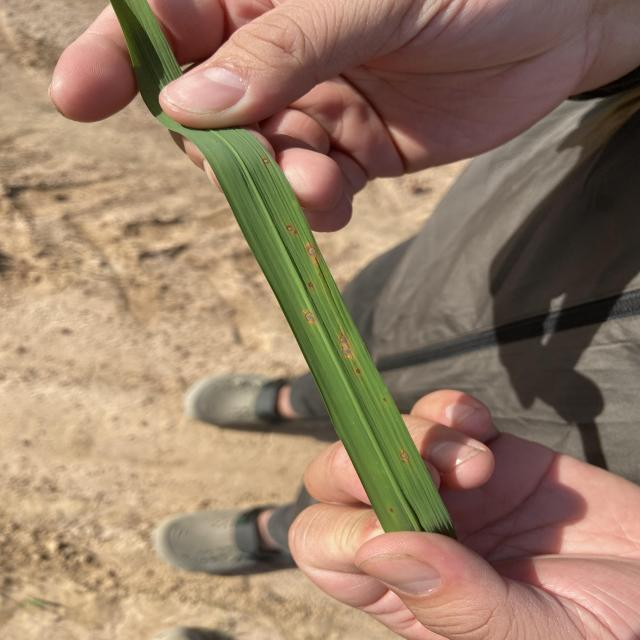Dao on: (340, 332, 354, 356), (303, 310, 315, 323), (307, 243, 317, 257), (401, 448, 409, 461), (287, 224, 297, 233), (263, 158, 268, 163), (356, 369, 360, 374), (310, 282, 312, 286)
